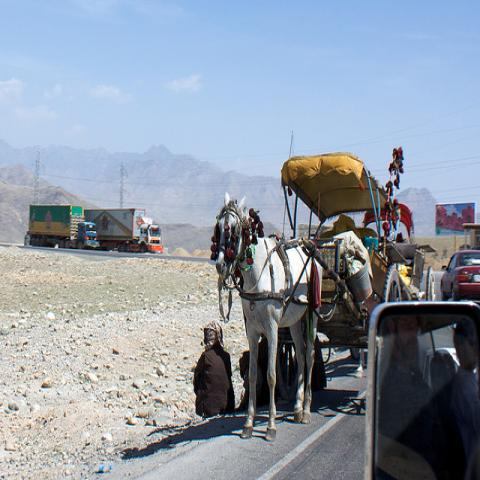car: (440, 250, 480, 304), (108, 247, 119, 253)
truck: (86, 207, 164, 253), (29, 204, 100, 247)
